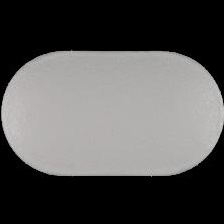43063-347: (0, 0, 224, 224)
